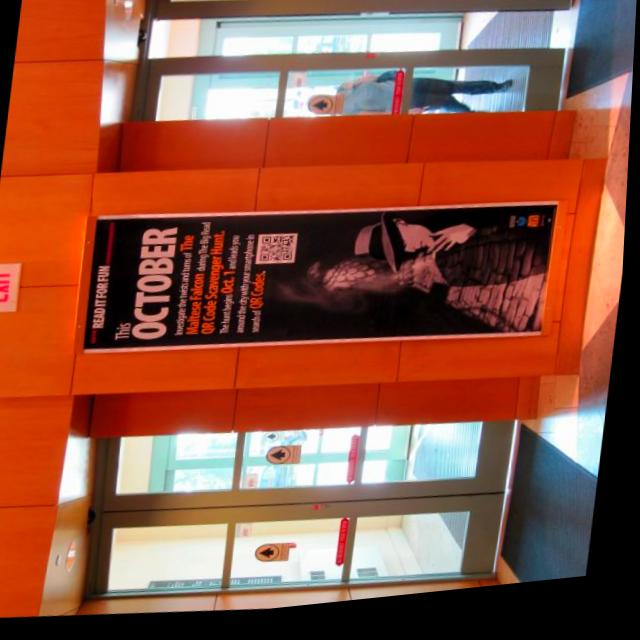qrcode: (263, 240, 298, 269)
